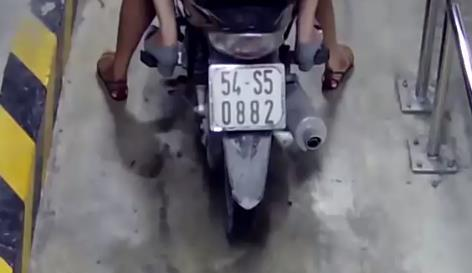lisence: (208, 62, 285, 130)
